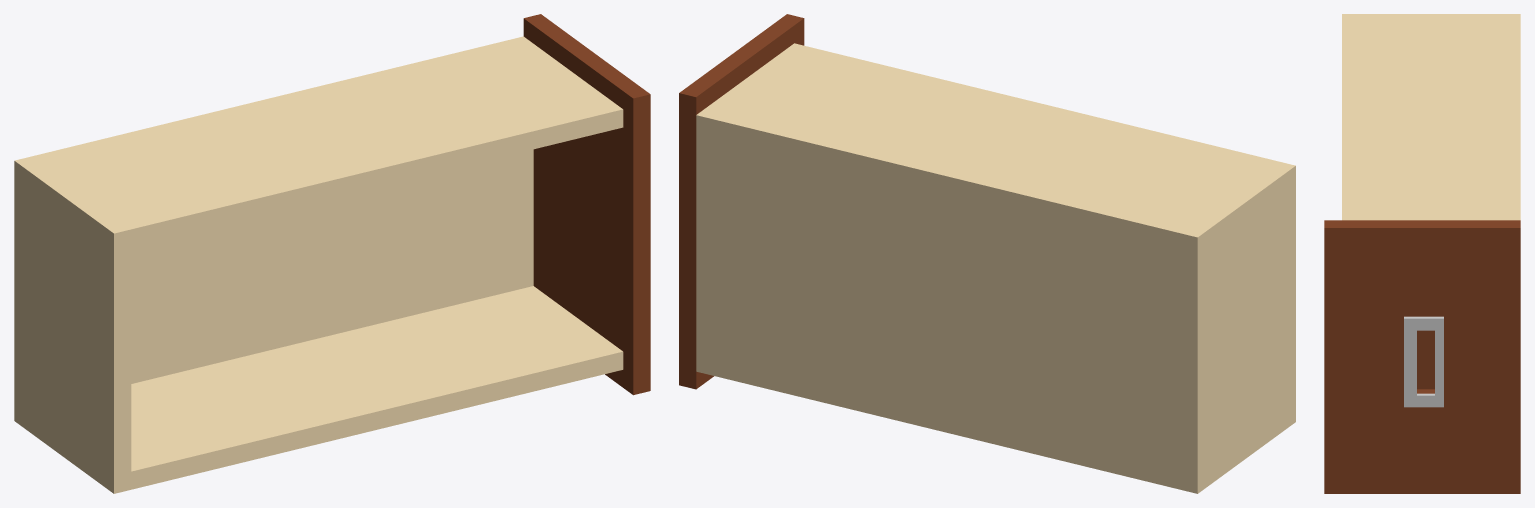
The model's file is SQUARE-600-CLOSET-BODYSET2_link_mesh.dae.
3 renders of one model, left to right at view 1: azimuth 30°, elevation 25°; view 2: azimuth 150°, elevation 25°; view 3: azimuth 270°, elevation 25°, orthographic. The views are drawn at different scales.
Parts seen in each view (by area): view 1: SQUARE-600-CLOSET-BODYSET2_link (×2); view 2: SQUARE-600-CLOSET-BODYSET2_link (×2); view 3: SQUARE-600-CLOSET-BODYSET2_link (×3).
Part boxes in pixels (x1,y1,x2,y2): SQUARE-600-CLOSET-BODYSET2_link (×2): (14,14,650,493); SQUARE-600-CLOSET-BODYSET2_link (×2): (679,14,1295,493); SQUARE-600-CLOSET-BODYSET2_link (×3): (1324,14,1520,493).
Bounding box in the file's own units: 0.551 × 0.294 × 0.197.
